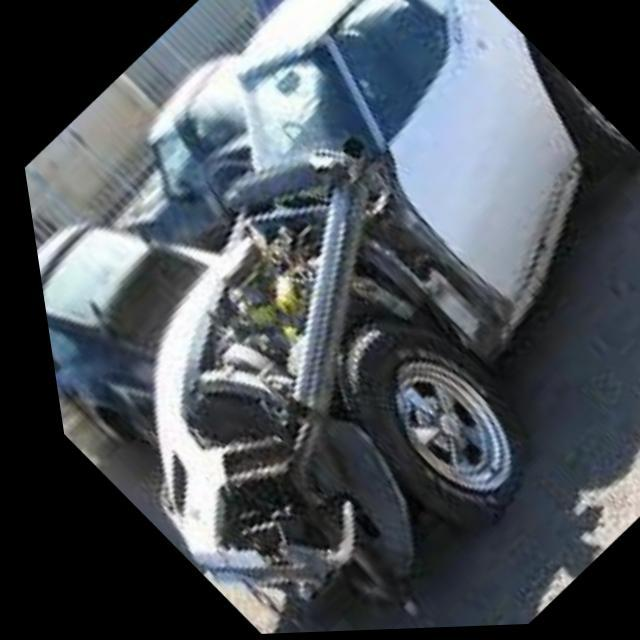no part: (159, 146, 504, 583)
